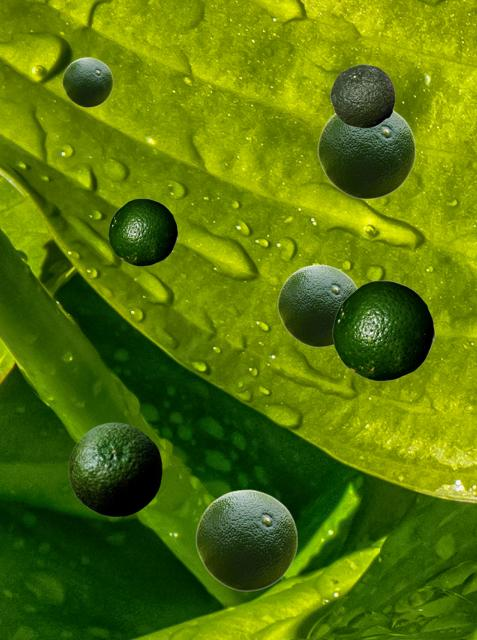calamansi: (195, 489, 297, 590), (332, 280, 434, 380), (68, 422, 161, 516), (317, 110, 415, 198), (277, 264, 356, 346), (108, 198, 177, 265), (330, 64, 394, 127), (62, 57, 112, 106)
